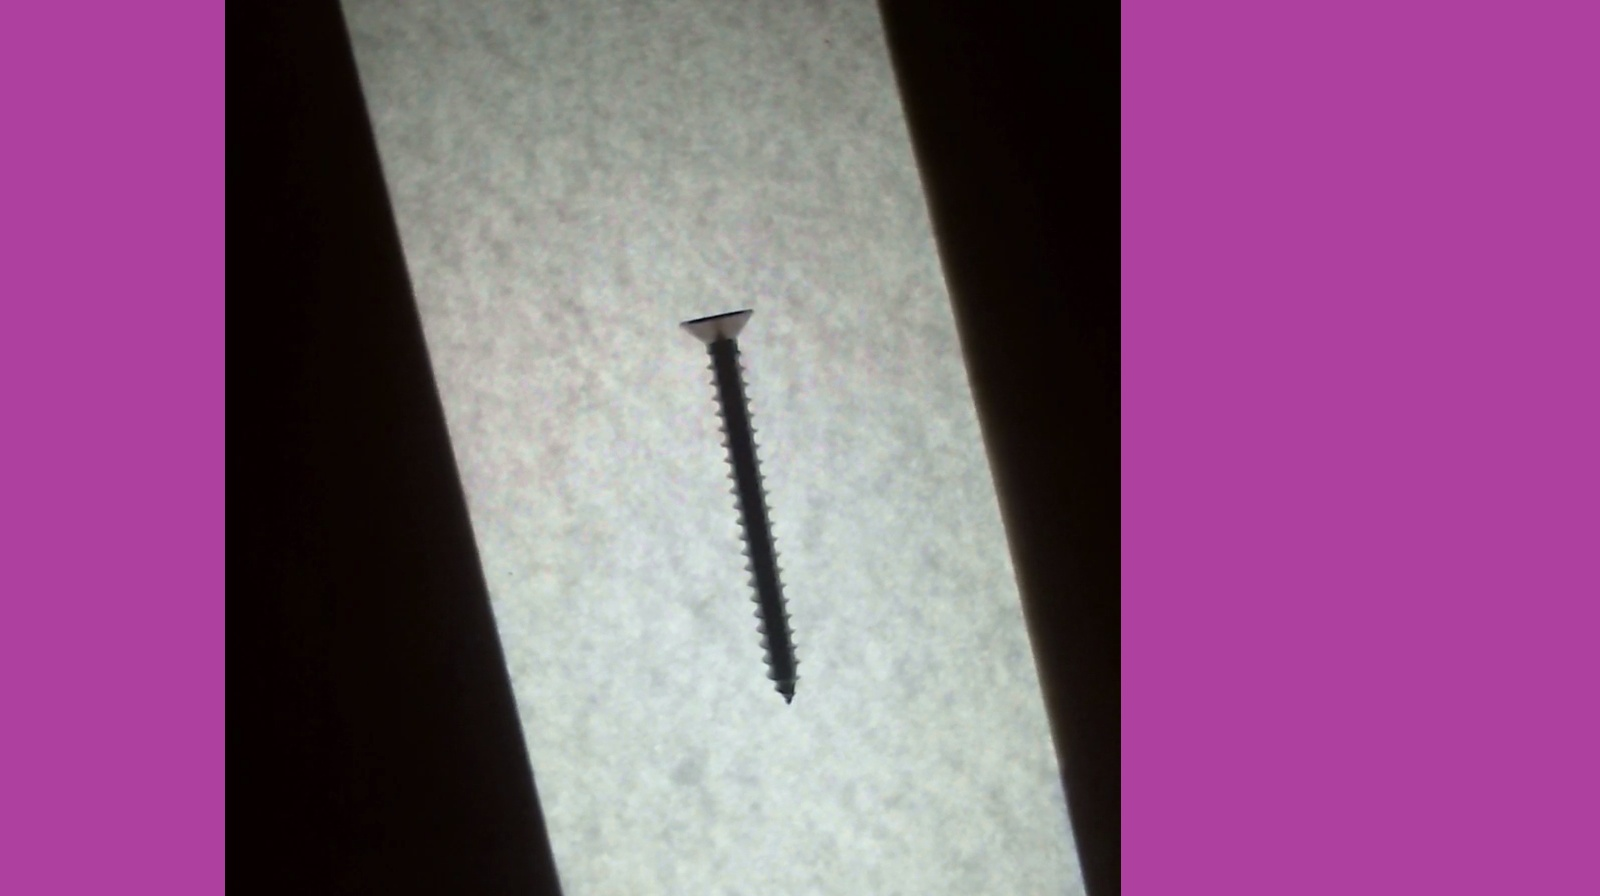S002: (678, 300, 807, 710)
